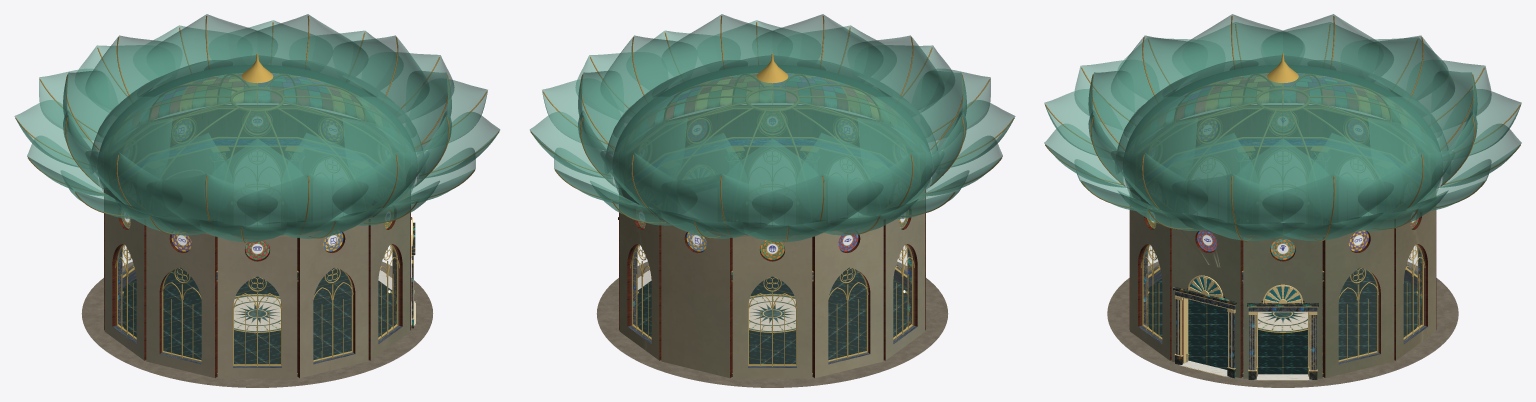
File: hall-stone-warm.opt.glb
3 renders of one model, left to right at view 1: azimuth 30°, elevation 25°; view 2: azimuth 150°, elevation 25°; view 3: azimuth 270°, elevation 25°, orthographic.
Visible parts, largest first — view 1: guild-hall_LotusHeart, guild-hall_MeshStandardMaterial.001, guild-hall_MeshPhysicalMaterial.004, guild-hall_InlayFloor, guild-hall_MeshStandardMaterial, guild-hall_MeshPhysicalMaterial.001, guild-hall_MeshStandardMaterial.017, guild-hall_MeshStandardMaterial.016, guild-hall_MeshPhysicalMaterial, guild-hall_Labradorite, guild-hall_MeshPhysicalMaterial.002, guild-hall_MeshStandardMaterial.009 (+1 smaller); view 2: guild-hall_LotusHeart, guild-hall_MeshStandardMaterial.001, guild-hall_MeshPhysicalMaterial.004, guild-hall_MeshStandardMaterial, guild-hall_InlayFloor, guild-hall_MeshStandardMaterial.017, guild-hall_MeshPhysicalMaterial.001, guild-hall_MeshStandardMaterial.016, guild-hall_MeshPhysicalMaterial, guild-hall_Labradorite, guild-hall_MeshPhysicalMaterial.002, guild-hall_MeshStandardMaterial.013 (+1 smaller); view 3: guild-hall_LotusHeart, guild-hall_MeshStandardMaterial.001, guild-hall_InlayFloor, guild-hall_MeshStandardMaterial, guild-hall_MeshPhysicalMaterial.004, guild-hall_MeshStandardMaterial.017, guild-hall_MeshPhysicalMaterial.001, guild-hall_MeshStandardMaterial.016, guild-hall_Labradorite, DoorTrim, guild-hall_MeshPhysicalMaterial, guild-hall_MeshPhysicalMaterial.002 (+3 smaller).
Part boxes in pixels (<box>): guild-hall_LotusHeart: <box>14,14,499,242</box>; guild-hall_MeshStandardMaterial.001: <box>104,190,410,378</box>; guild-hall_MeshPhysicalMaterial.004: <box>115,81,399,366</box>; guild-hall_InlayFloor: <box>122,267,392,364</box>; guild-hall_MeshStandardMaterial: <box>15,16,499,373</box>; guild-hall_MeshPhysicalMaterial.001: <box>104,105,410,377</box>; guild-hall_MeshStandardMaterial.017: <box>81,261,433,387</box>; guild-hall_MeshStandardMaterial.016: <box>139,73,375,123</box>; guild-hall_MeshPhysicalMaterial: <box>234,295,280,331</box>; guild-hall_Labradorite: <box>118,151,415,376</box>; guild-hall_MeshPhysicalMaterial.002: <box>113,264,401,367</box>; guild-hall_MeshStandardMaterial.009: <box>245,240,269,260</box>; guild-hall_LotusHeart: <box>530,14,1015,242</box>; guild-hall_MeshStandardMaterial.001: <box>619,190,925,378</box>; guild-hall_MeshPhysicalMaterial.004: <box>630,81,914,366</box>; guild-hall_MeshStandardMaterial: <box>530,16,1014,373</box>; guild-hall_InlayFloor: <box>637,267,907,364</box>; guild-hall_MeshStandardMaterial.017: <box>596,261,948,387</box>; guild-hall_MeshPhysicalMaterial.001: <box>619,105,925,377</box>; guild-hall_MeshStandardMaterial.016: <box>654,73,890,123</box>; guild-hall_MeshPhysicalMaterial: <box>749,295,795,331</box>; guild-hall_Labradorite: <box>618,151,911,376</box>; guild-hall_MeshPhysicalMaterial.002: <box>628,264,916,367</box>; guild-hall_MeshStandardMaterial.013: <box>760,240,784,260</box>; guild-hall_LotusHeart: <box>1044,14,1521,240</box>; guild-hall_MeshStandardMaterial.001: <box>1130,189,1435,378</box>; guild-hall_InlayFloor: <box>1148,267,1417,374</box>; guild-hall_MeshStandardMaterial: <box>1045,16,1520,373</box>; guild-hall_MeshPhysicalMaterial.004: <box>1140,81,1425,362</box>; guild-hall_MeshStandardMaterial.017: <box>1107,261,1458,387</box>; guild-hall_MeshPhysicalMaterial.001: <box>1129,105,1436,377</box>; guild-hall_MeshStandardMaterial.016: <box>1164,73,1401,123</box>; guild-hall_Labradorite: <box>1143,151,1422,379</box>; DoorTrim: <box>1174,275,1317,380</box>; guild-hall_MeshPhysicalMaterial: <box>1258,296,1307,331</box>; guild-hall_MeshPhysicalMaterial.002: <box>1138,264,1427,364</box>.
Bounding box in the file's own units: 45.15 × 27.16 × 45.15.
32 materials, 30 textured.
